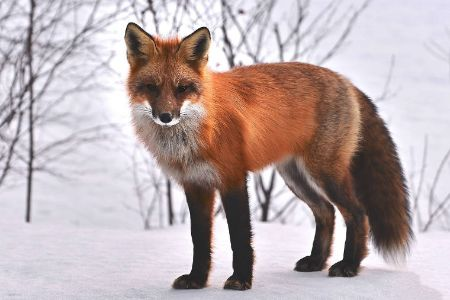fox: (119, 15, 420, 289)
